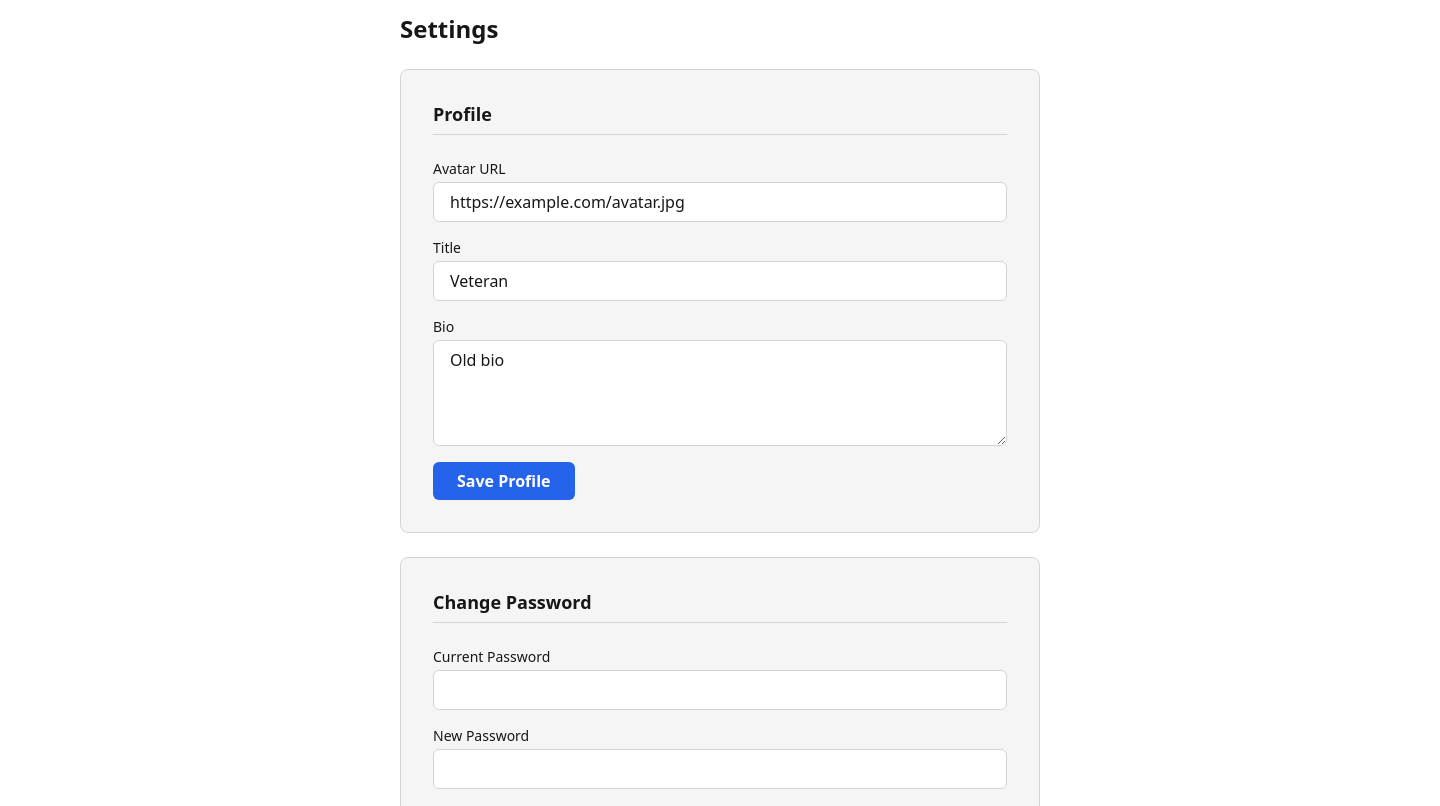
Test: UserSettingsPage › shows error toast on profile update failure
Click the button "Save Profile": (504, 481) top-left (433, 462), bottom-right (574, 500)
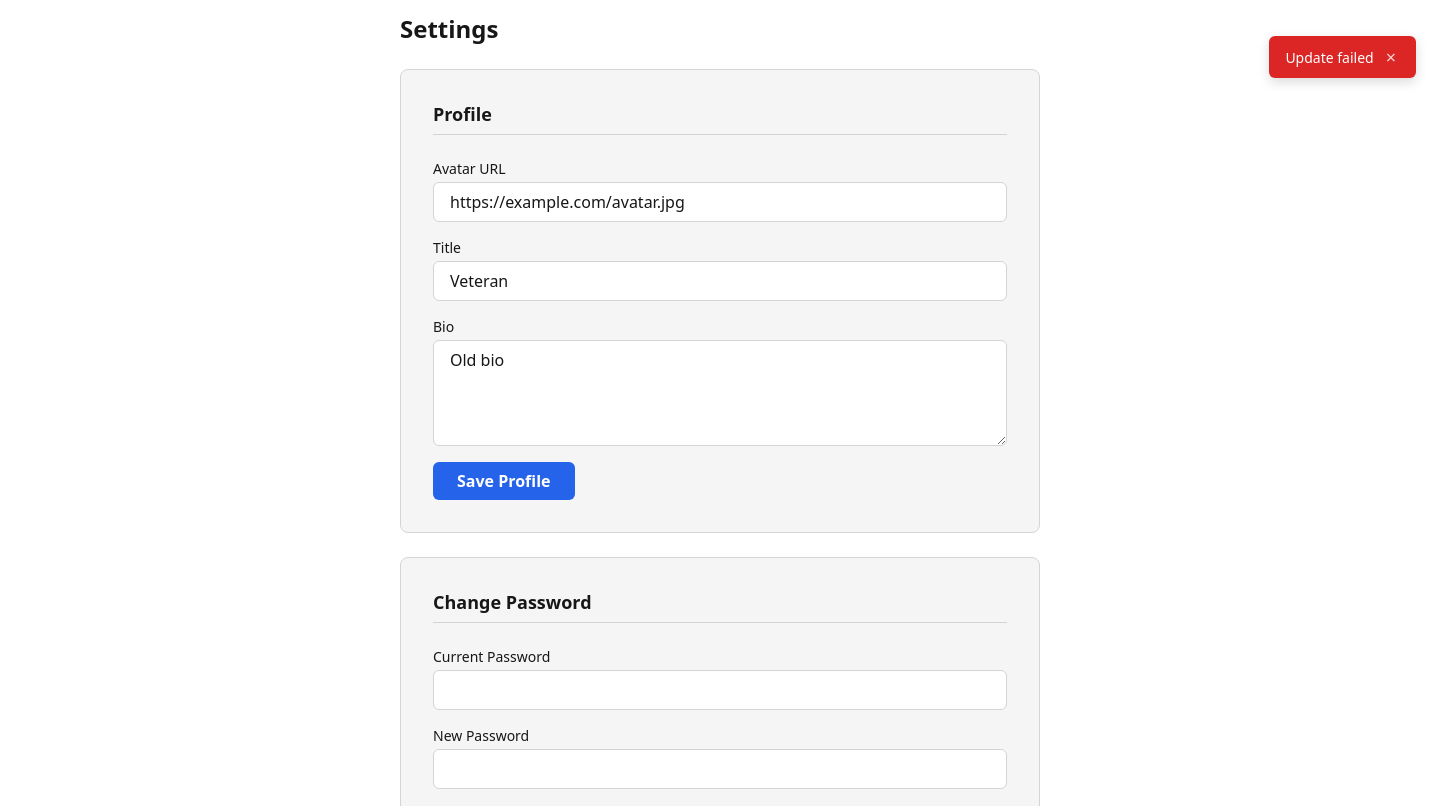
expect the text "Update failed" is shown: met, box top-left (1285, 48), bottom-right (1374, 66)
